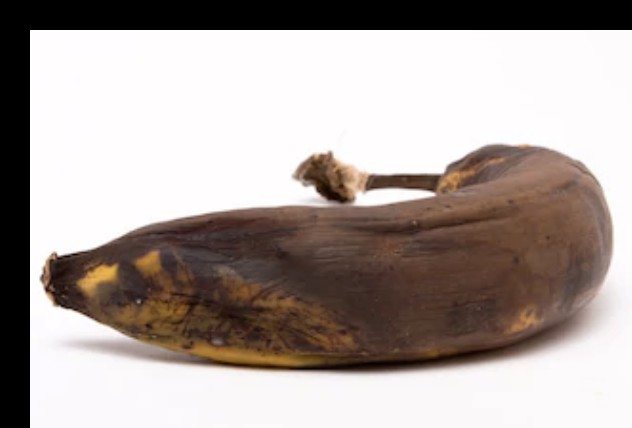rotten_banana: (41, 144, 614, 371)
